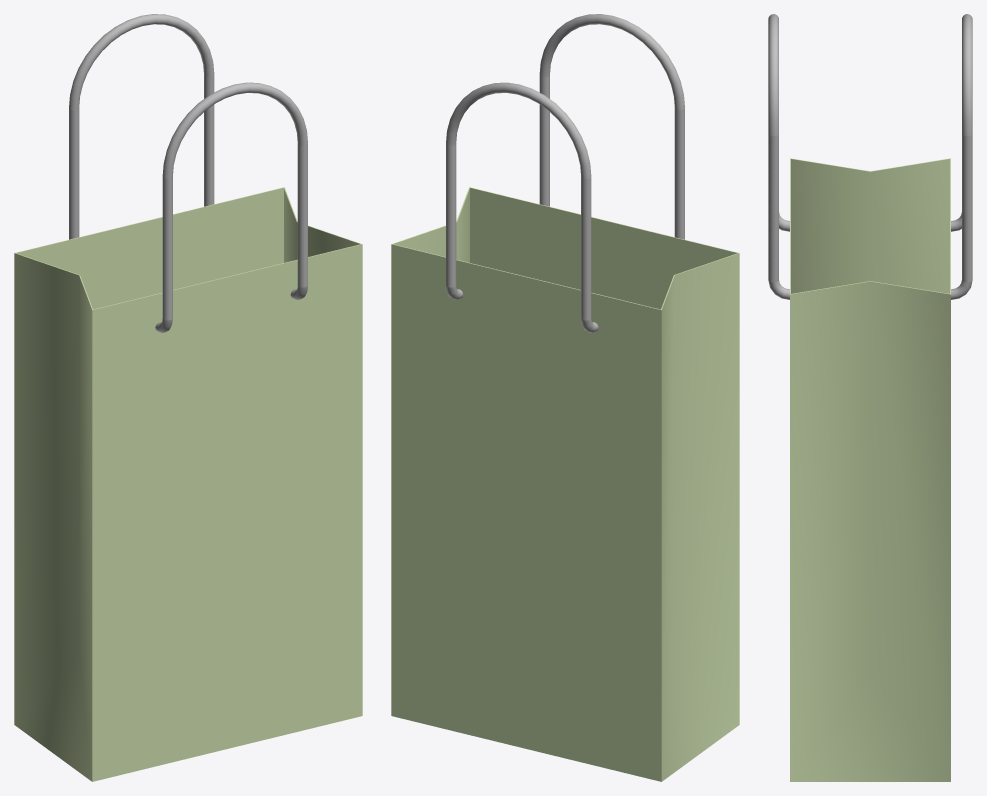
Rendered from bag_sample.gltf.
The picture shows the model from 3 angles, left to right: view 1: azimuth 30°, elevation 25°; view 2: azimuth 150°, elevation 25°; view 3: azimuth 270°, elevation 25°; orthographic projection. The views are drawn at different scales.
Parts seen in each view (by area): view 1: pCube1, pTorus4, pTorus3; view 2: pCube1, pTorus3, pTorus4; view 3: pCube1, pTorus3, pTorus4.
Boxes of the visible parts, x1,y1,x2,y2 form: pCube1: [14, 187, 362, 781]; pTorus4: [155, 82, 307, 332]; pTorus3: [69, 14, 214, 239]; pCube1: [391, 187, 739, 781]; pTorus3: [446, 82, 598, 332]; pTorus4: [539, 14, 684, 239]; pCube1: [790, 158, 950, 781]; pTorus3: [951, 14, 972, 299]; pTorus4: [768, 14, 789, 299].
Size of the model in its own units: 30 by 71 by 19.
